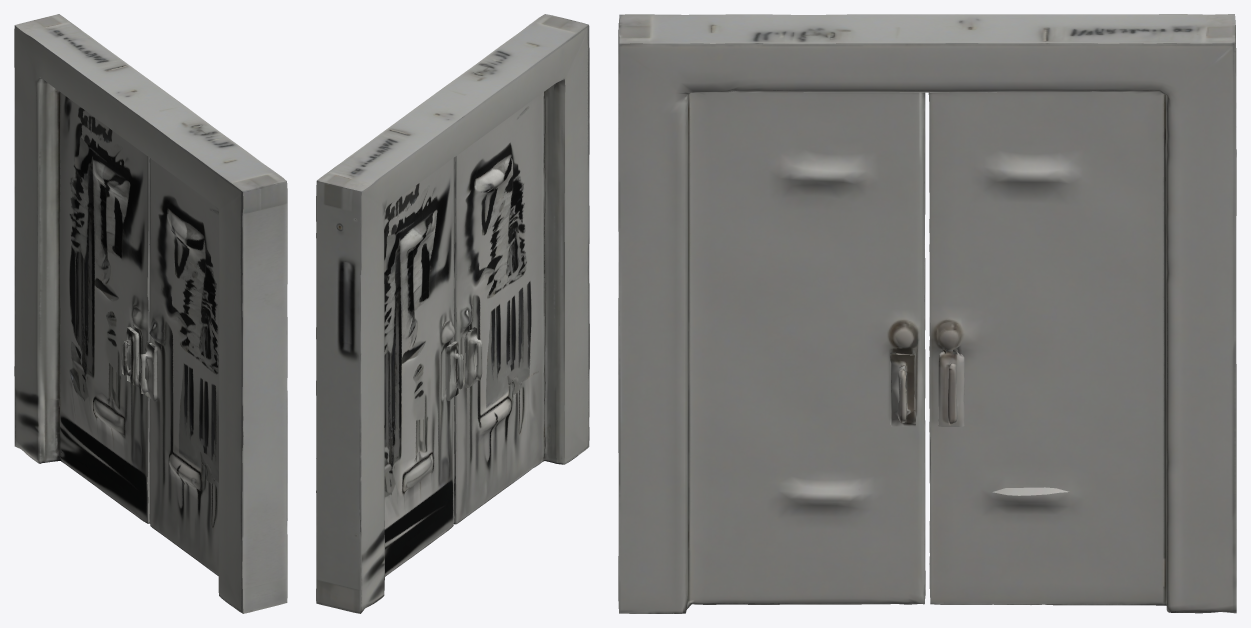
The model's file is MetalDoubleDoor.glb.
3 views of the same model, side by side, from view 1: azimuth 30°, elevation 25°; view 2: azimuth 150°, elevation 25°; view 3: azimuth 270°, elevation 25° (orthographic). The views are drawn at different scales.
Visible parts, largest first — view 1: Mesh0; view 2: Mesh0; view 3: Mesh0.
Part boxes in pixels (box(x1,y1,x2,y2)): Mesh0: box(14, 14, 287, 613); Mesh0: box(316, 14, 589, 613); Mesh0: box(618, 14, 1236, 613).
Size of the model in its own units: 0.2426 by 2.01 by 1.97.
1 material, 1 textured.
